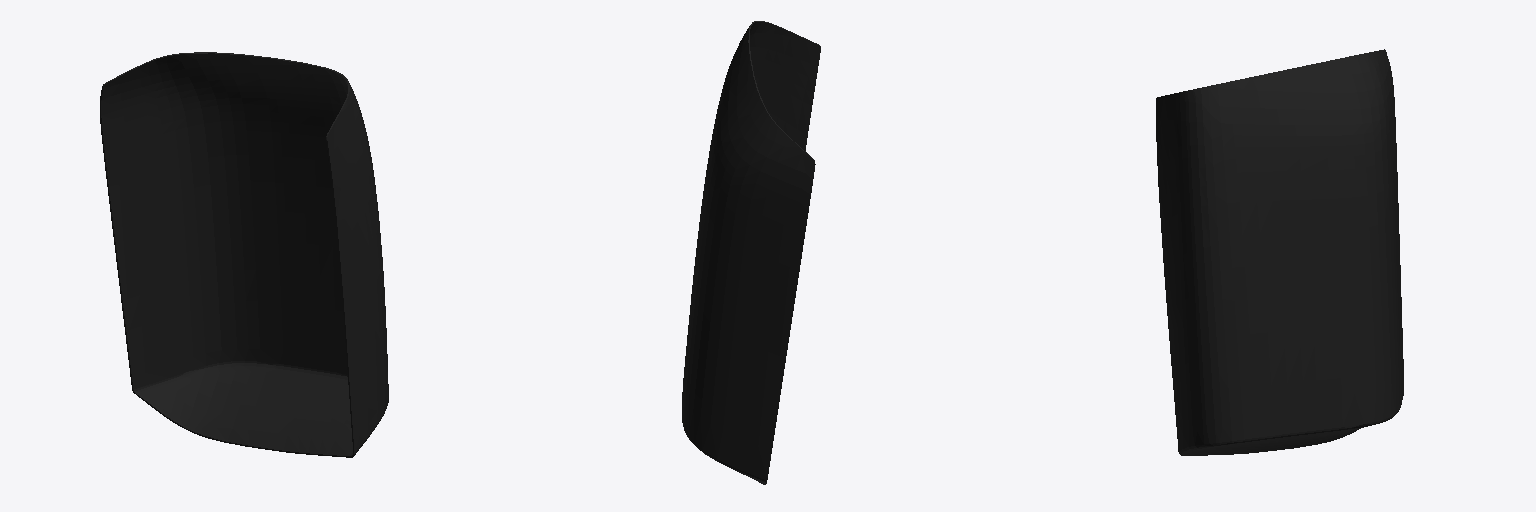
The model's file is Left_cover_optimized.obj.
3 renders of one model, left to right at view 1: azimuth 30°, elevation 25°; view 2: azimuth 150°, elevation 25°; view 3: azimuth 270°, elevation 25°, orthographic.
Visible parts, largest first — view 1: 5 side cover R (1); view 2: 5 side cover R (1); view 3: 5 side cover R (1).
Part boxes in pixels (left/top/right/bottom): 5 side cover R (1): left=100, top=52, right=388, bottom=457; 5 side cover R (1): left=682, top=21, right=820, bottom=484; 5 side cover R (1): left=1156, top=49, right=1403, bottom=455.
Size of the model in its own units: 499 by 928 by 534.